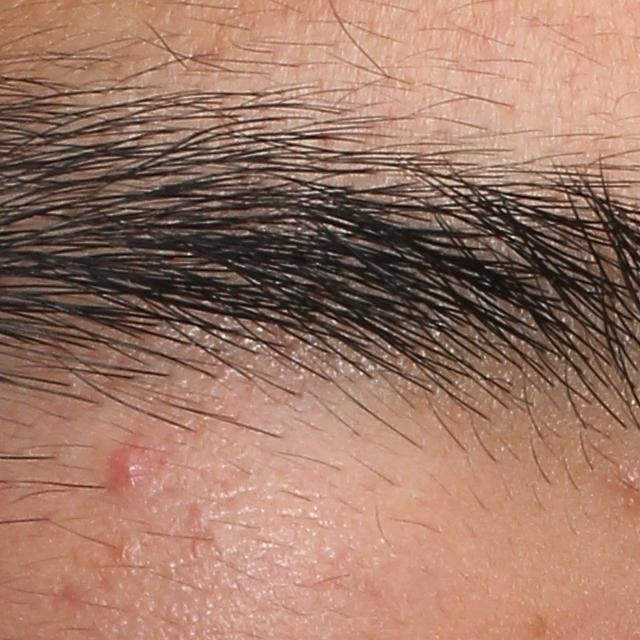papule: (105, 447, 150, 492)
